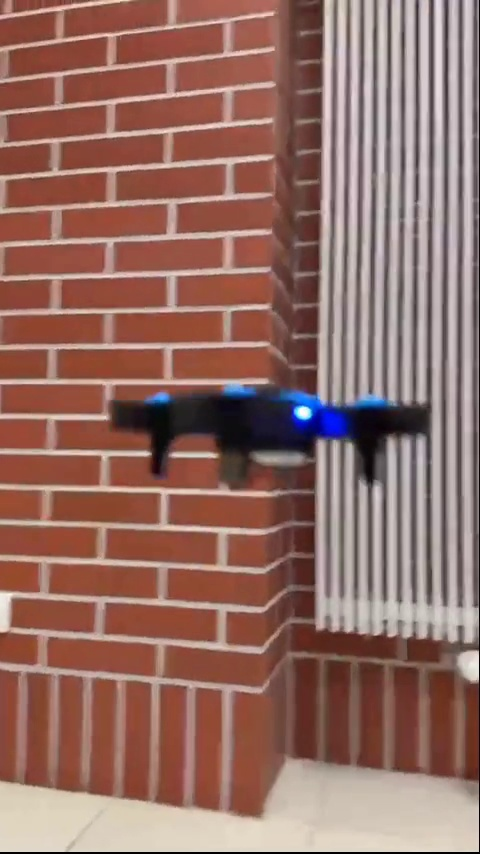drone: (108, 379, 432, 484)
